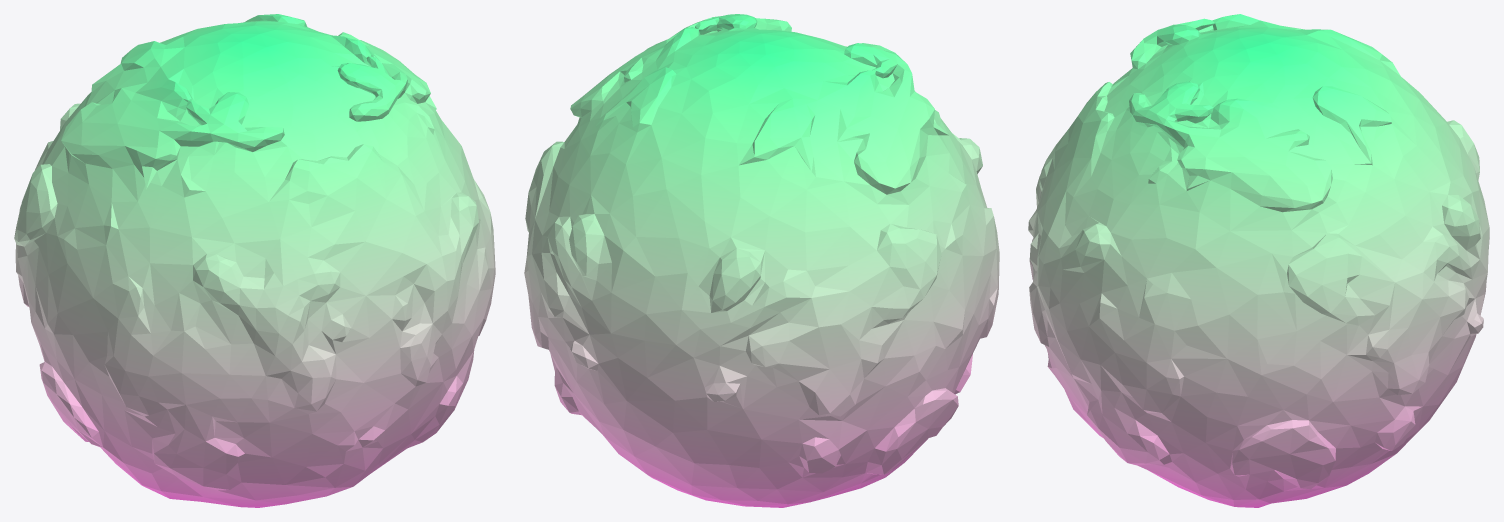
The model's file is 139_cyb_laser_gradient_fish_scales_2851_2026_10_03_9f25b8.glb.
The picture shows the model from 3 angles, left to right: view 1: azimuth 30°, elevation 25°; view 2: azimuth 150°, elevation 25°; view 3: azimuth 270°, elevation 25°; orthographic projection.
Visible parts, largest first — view 1: geometry_0; view 2: geometry_0; view 3: geometry_0.
Boxes of the visible parts, bbox=[...] form: geometry_0: bbox=[14, 14, 495, 507]; geometry_0: bbox=[524, 14, 999, 507]; geometry_0: bbox=[1028, 14, 1489, 507].
Bounding box in the file's own units: 0.9655 × 0.9853 × 0.9651.
